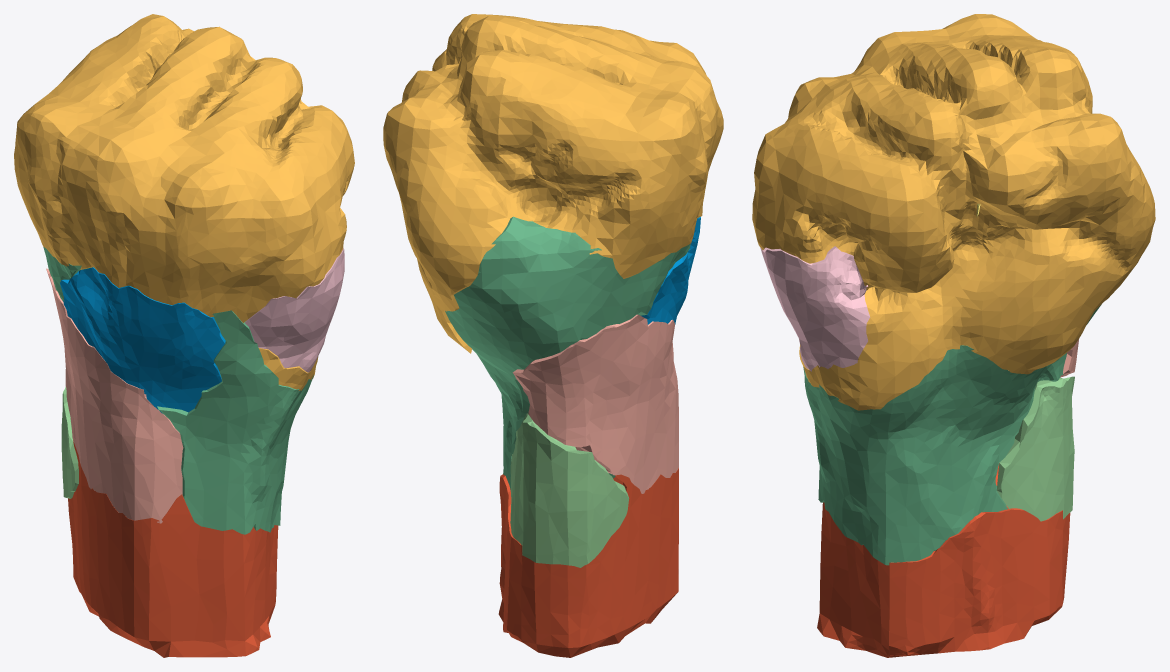
3 views of the same model, side by side, from view 1: azimuth 30°, elevation 25°; view 2: azimuth 150°, elevation 25°; view 3: azimuth 270°, elevation 25° (orthographic). The views are drawn at different scales.
Visible parts, largest first — view 1: Object_piece_8, Object_piece_8.001, Object_piece_8.002, Object_piece_8.004, Object_piece_8.003, Object_piece_8.005, Object_piece_8.006; view 2: Object_piece_8, Object_piece_8.002, Object_piece_8.001, Object_piece_8.004, Object_piece_8.006, Object_piece_8.003; view 3: Object_piece_8, Object_piece_8.002, Object_piece_8.001, Object_piece_8.005, Object_piece_8.006.
Part boxes in pixels (x1,y1,x2,y2): Object_piece_8: [14, 14, 354, 390]; Object_piece_8.001: [68, 440, 278, 657]; Object_piece_8.002: [43, 247, 313, 534]; Object_piece_8.004: [46, 268, 183, 523]; Object_piece_8.003: [60, 267, 225, 413]; Object_piece_8.005: [245, 248, 344, 372]; Object_piece_8.006: [61, 387, 78, 498]; Object_piece_8: [383, 14, 723, 353]; Object_piece_8.002: [445, 216, 690, 491]; Object_piece_8.001: [498, 468, 678, 657]; Object_piece_8.004: [512, 314, 678, 493]; Object_piece_8.006: [510, 413, 629, 567]; Object_piece_8.003: [641, 217, 700, 324]; Object_piece_8: [752, 14, 1155, 410]; Object_piece_8.002: [803, 304, 1101, 565]; Object_piece_8.001: [817, 463, 1070, 657]; Object_piece_8.005: [760, 246, 870, 371]; Object_piece_8.006: [996, 376, 1074, 521].
Bounding box in the file's own units: 0.528 × 0.9889 × 0.6085.
